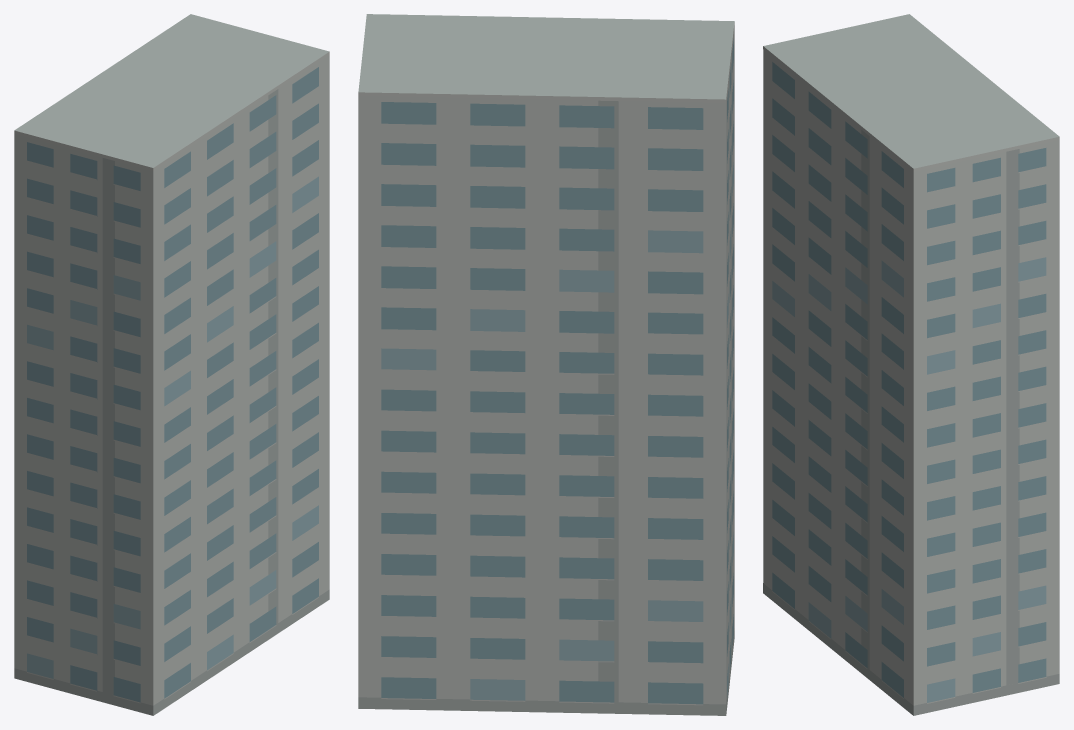
The model's file is residential-fe88dfc8-7338-4b2d-a007-7d6911aacb60.glb.
3 views of the same model, side by side, from view 1: azimuth 30°, elevation 25°; view 2: azimuth 150°, elevation 25°; view 3: azimuth 270°, elevation 25° (orthographic). The views are drawn at different scales.
Parts seen in each view (by area): view 1: residential-fe88dfc8-7338-4b2d-a007-7d6911aacb60.tmp; view 2: residential-fe88dfc8-7338-4b2d-a007-7d6911aacb60.tmp; view 3: residential-fe88dfc8-7338-4b2d-a007-7d6911aacb60.tmp.
Boxes of the visible parts, x1,y1,x2,y2 form: residential-fe88dfc8-7338-4b2d-a007-7d6911aacb60.tmp: (14,14,329,715); residential-fe88dfc8-7338-4b2d-a007-7d6911aacb60.tmp: (358,14,734,715); residential-fe88dfc8-7338-4b2d-a007-7d6911aacb60.tmp: (763,14,1059,715).
Size of the model in its own units: 24.27 by 40 by 19.66.
